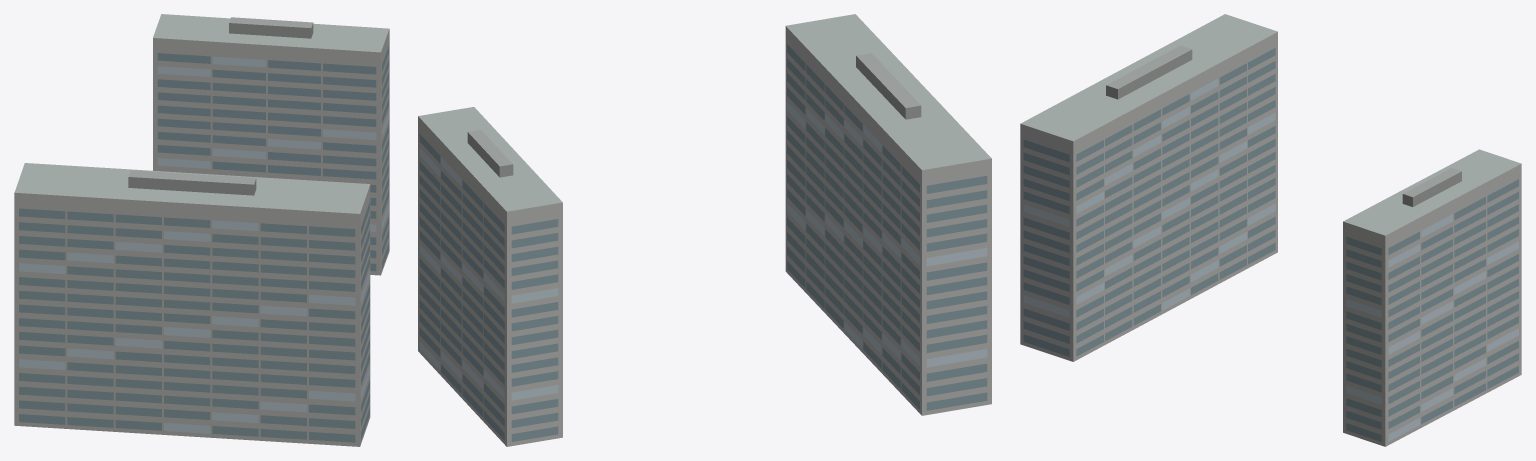
Rendered from apt-a15784201.glb.
The picture shows the model from 3 angles, left to right: view 1: azimuth 30°, elevation 25°; view 2: azimuth 150°, elevation 25°; view 3: azimuth 270°, elevation 25°; orthographic projection. The views are drawn at different scales.
Visible parts, largest first — view 1: apt-a15784201; view 2: apt-a15784201; view 3: apt-a15784201.
Part boxes in pixels (<box>): apt-a15784201: <box>14,14,389,446</box>; apt-a15784201: <box>418,14,991,446</box>; apt-a15784201: <box>1020,14,1521,446</box>.
Bounding box in the file's own units: 92.65 × 47 × 92.44.
